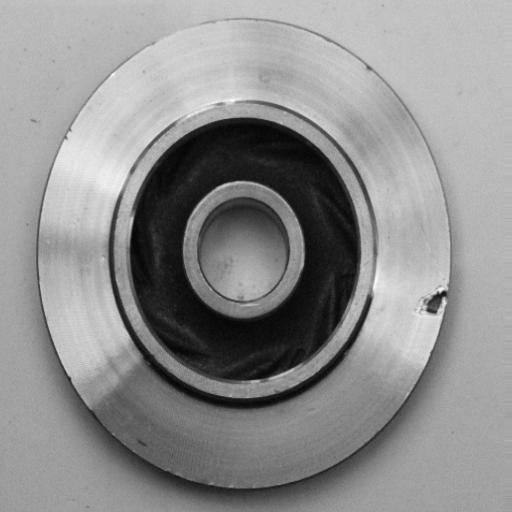crack: (410, 276, 454, 322)
scratch: (165, 89, 248, 129)
unpolished_casting: (37, 14, 454, 495)
